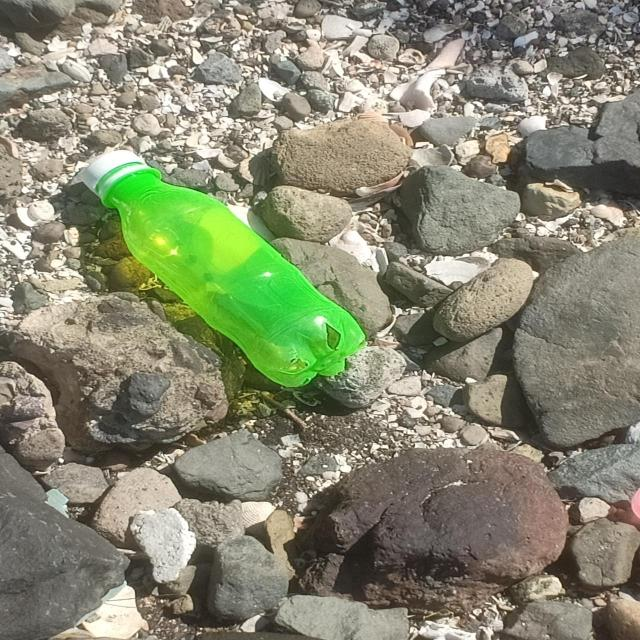plastic_waste: (80, 150, 369, 388)
